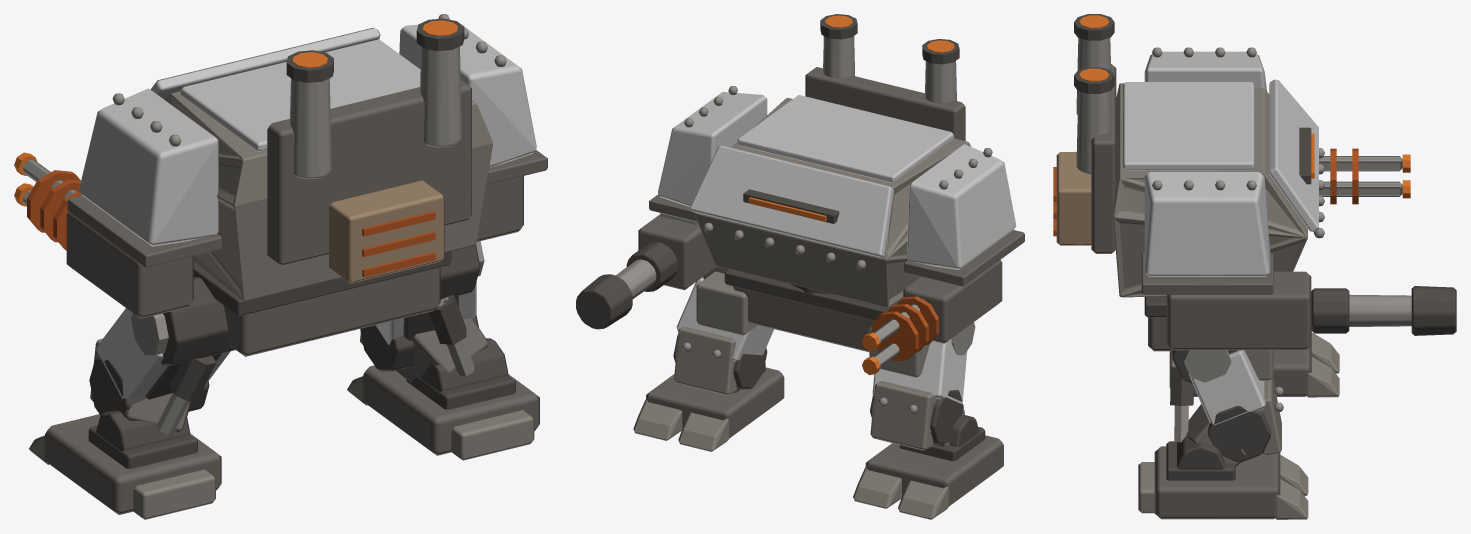
The model's file is crucible_heavy_bot.glb.
3 views of the same model, side by side, from view 1: azimuth 30°, elevation 25°; view 2: azimuth 150°, elevation 25°; view 3: azimuth 270°, elevation 25° (orthographic). The views are drawn at different scales.
Parts seen in each view (by area): view 1: Turret, Body; view 2: Turret, Body; view 3: Turret, Body.
Boxes of the visible parts, bbox=[...] form: Turret: bbox=[14, 14, 547, 318]; Body: bbox=[29, 241, 539, 519]; Turret: bbox=[576, 14, 1024, 375]; Body: bbox=[633, 266, 1003, 519]; Turret: bbox=[1053, 14, 1456, 350]; Body: bbox=[1138, 296, 1339, 519].
Size of the model in its own units: 1.26 by 1.37 by 1.28.
